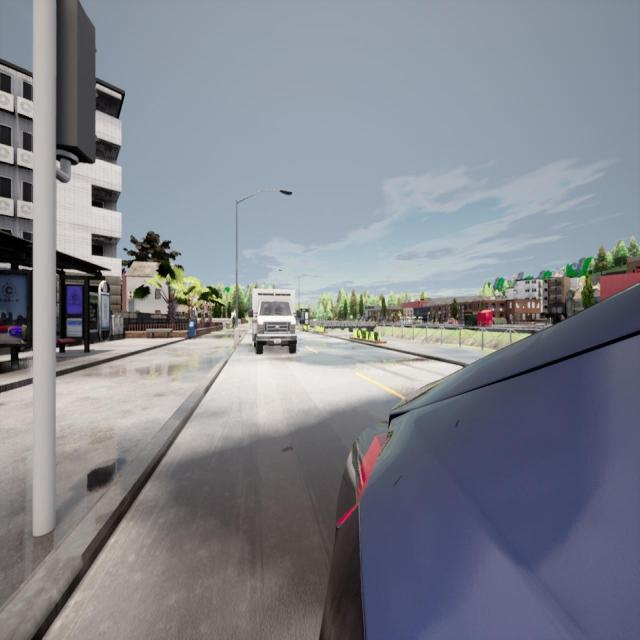Pedestrian: (230, 314, 236, 328)
Vehicle: (318, 283, 640, 639), (250, 288, 296, 354)
traffic_light: (55, 1, 97, 167)
